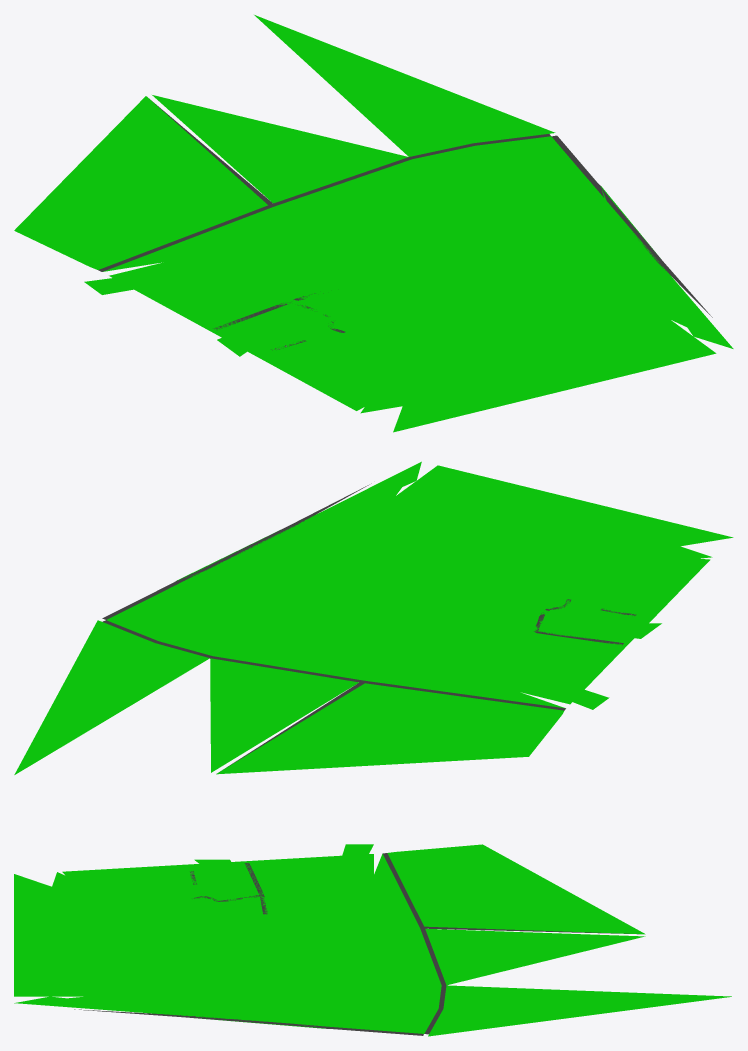
3 views of the same model, one above another, from view 1: azimuth 30°, elevation 25°; view 2: azimuth 150°, elevation 25°; view 3: azimuth 270°, elevation 25° (orthographic). The views are drawn at different scales.
Size of the model in its own units: 379 by 0.2 by 600.
